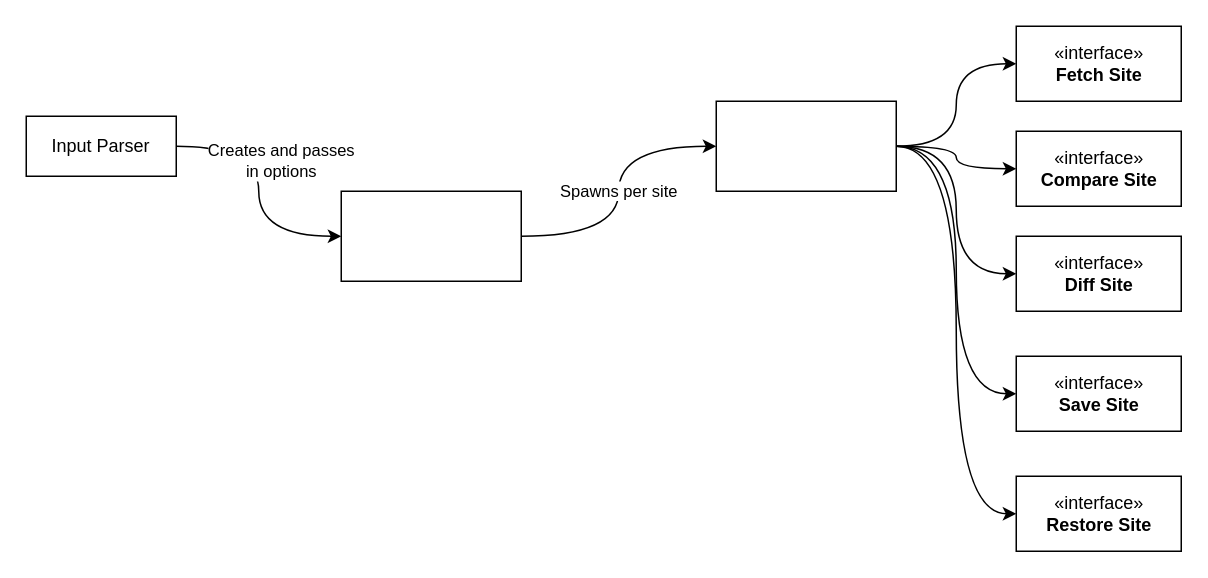
Some shapes in this 1208 by 578 pixel diagram are drawn without their labels. The shapes that lost their labels are listed below. From the top down, each one's box as (x1, y1, x2, y2) in pixels, then its label:
(715, 100, 896, 191): Watcher
(340, 190, 521, 281): Runner
